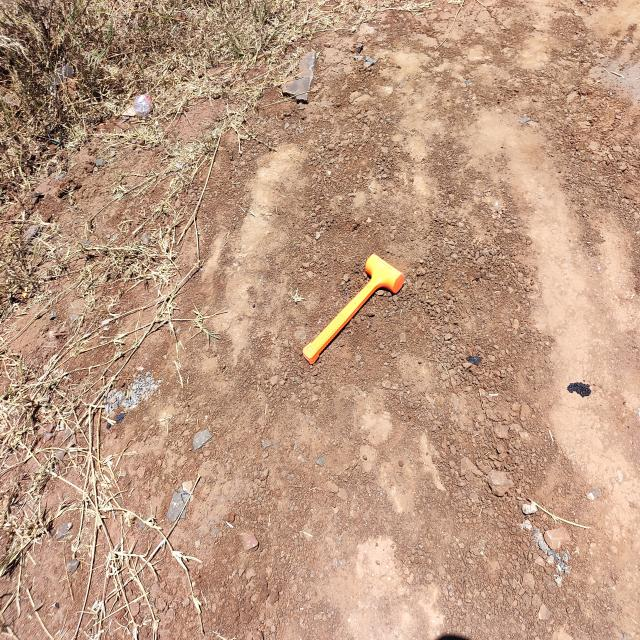Orange_hammer: (302, 252, 404, 365)
